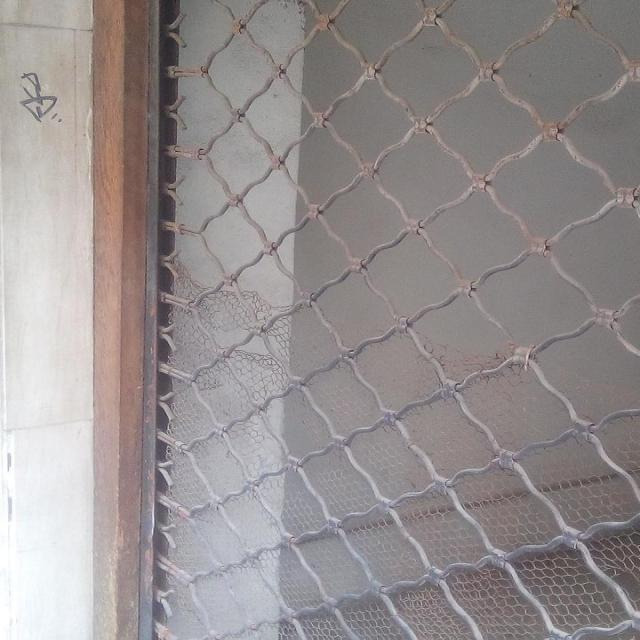nonspitting: (16, 68, 63, 129)
